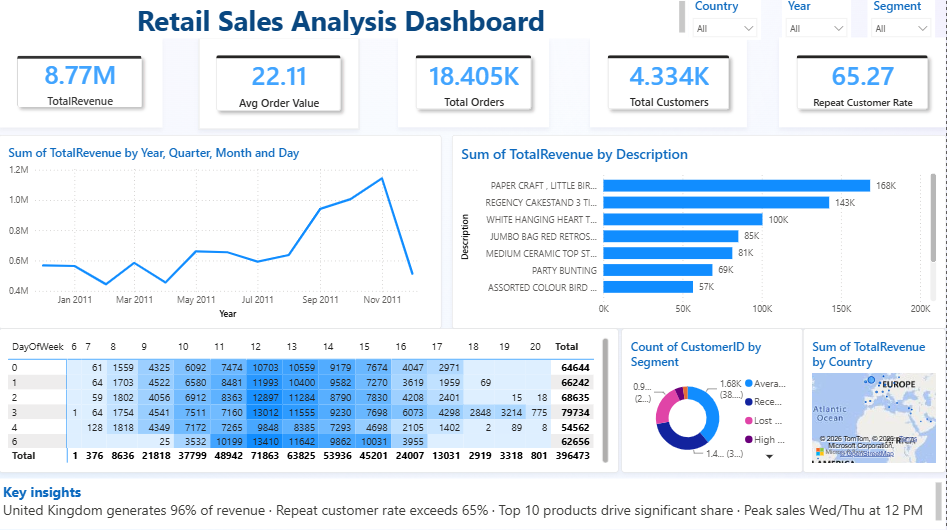

What the dashboard file says about the page in this screenshot:
{"tool":"powerbi","page":{"name":"Page 1","canvas":[1280,720],"ordinal":0},"visuals":[{"type":"cardVisual","fields":{"Data":["Count(online_retail_final.InvoiceNo)"]},"box":[265.6,79.1,204.8,83.1],"z":0},{"type":"cardVisual","fields":{"Data":["Count(online_retail_final.CustomerID)"]},"box":[492.7,79.1,210.9,83.1],"z":1000},{"type":"cardVisual","fields":{"Data":["Avg(online_retail_final.TotalRevenue)"]},"box":[750.2,79.1,214.9,83.1],"z":2000},{"type":"cardVisual","fields":{"Data":["Sum(online_retail_final.TotalRevenue)"]},"box":[26.4,79.1,202.7,83.1],"z":3000},{"type":"lineChart","fields":{"Category":["online_retail_final.MonthYear.Variation.Date Hierarchy.Year","online_retail_final.MonthYear.Variation.Date Hierarchy.Quarter","online_retail_final.MonthYear.Variation.Date Hierarchy.Month","online_retail_final.MonthYear.Variation.Date Hierarchy.Day"],"Y":["Sum(online_retail_final.TotalRevenue)"]},"box":[0,180.4,598.1,261.5],"z":4000},{"type":"clusteredBarChart","fields":{"Y":["Sum(online_retail_final.TotalRevenue)"],"Category":["online_retail_final.Description"]},"box":[612.3,180.4,667,261.5],"z":5000},{"type":"pivotTable","fields":{"Rows":["online_retail_final.DayOfWeek"],"Columns":["online_retail_final.Hour"],"Values":["CountNonNull(online_retail_final.InvoiceNo)"]},"box":[0,448.1,837.3,194.6],"z":6000},{"type":"donutChart","fields":{"Category":["rfm_segments.Segment"],"Y":["CountNonNull(rfm_segments.CustomerID)"]},"box":[841.4,448.1,245.3,194.6],"z":7000},{"type":"map","fields":{"Category":["online_retail_final.Country"],"Size":["Sum(online_retail_final.TotalRevenue)"]},"box":[1086.7,448.1,192.6,194.6],"z":8000},{"type":"textbox","box":[0,0,894.1,56.8],"z":9000},{"type":"cardVisual","fields":{"Data":["rfm_segments.Repeat Customer Rate"]},"box":[1021.8,79.1,227.1,83.1],"z":10000},{"type":"slicer","fields":{"Values":["online_retail_final.Country"]},"box":[932.6,0,97.3,58.8],"z":11000},{"type":"slicer","fields":{"Values":["online_retail_final.Year"]},"box":[1058.3,0,93.3,58.8],"z":12000},{"type":"slicer","fields":{"Values":["rfm_segments.Segment"]},"box":[1173.9,0,91.2,56.8],"z":13000},{"type":"textbox","box":[0,650.8,1279.3,68.9],"z":14000}]}

Visuals, with their boxes in screenshot pixels (x1, y1, x2, y2), scaled from the page's 1280x720 canvas onto the 947x530 screenshot:
cardVisual - Count(online_retail_final.InvoiceNo): [197,58,348,119]
cardVisual - Count(online_retail_final.CustomerID): [365,58,521,119]
cardVisual - Avg(online_retail_final.TotalRevenue): [555,58,714,119]
cardVisual - Sum(online_retail_final.TotalRevenue): [20,58,169,119]
lineChart - online_retail_final.MonthYear.Variation.Date Hierarchy.Year x online_retail_final.MonthYear.Variation.Date Hierarchy.Quarter: [0,133,443,325]
clusteredBarChart - Sum(online_retail_final.TotalRevenue) x online_retail_final.Description: [453,133,946,325]
pivotTable - online_retail_final.DayOfWeek x online_retail_final.Hour: [0,330,619,473]
donutChart - rfm_segments.Segment x CountNonNull(rfm_segments.CustomerID): [623,330,804,473]
map - online_retail_final.Country x Sum(online_retail_final.TotalRevenue): [804,330,946,473]
textbox: [0,0,661,42]
cardVisual - rfm_segments.Repeat Customer Rate: [756,58,924,119]
slicer - online_retail_final.Country: [690,0,762,43]
slicer - online_retail_final.Year: [783,0,852,43]
slicer - rfm_segments.Segment: [869,0,936,42]
textbox: [0,479,946,529]
